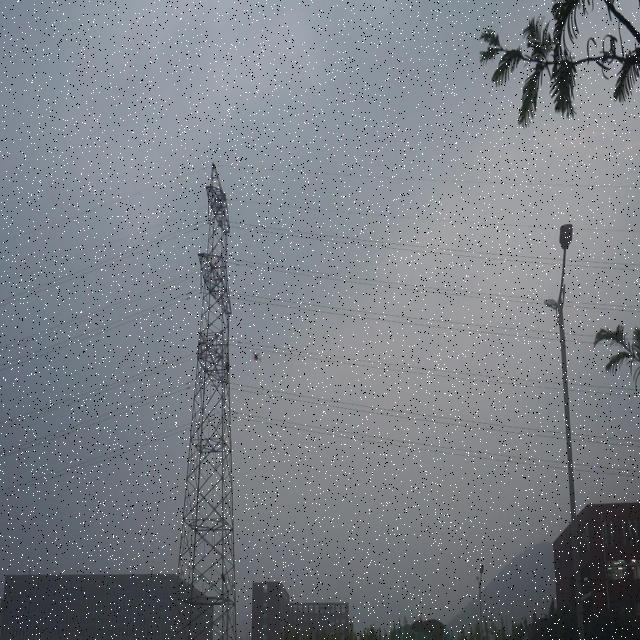UAV: (251, 351, 261, 361)
